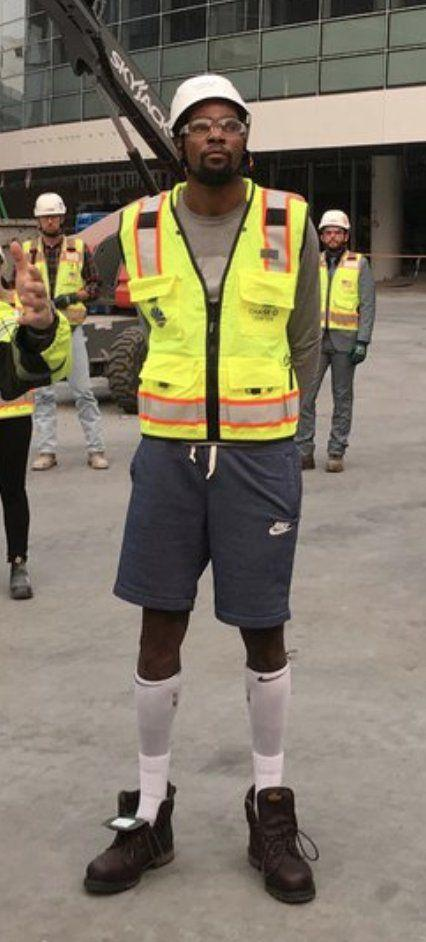helmet: (171, 70, 251, 131), (34, 197, 68, 221), (320, 211, 351, 236)
